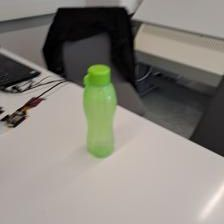bottle: (80, 64, 119, 158)
